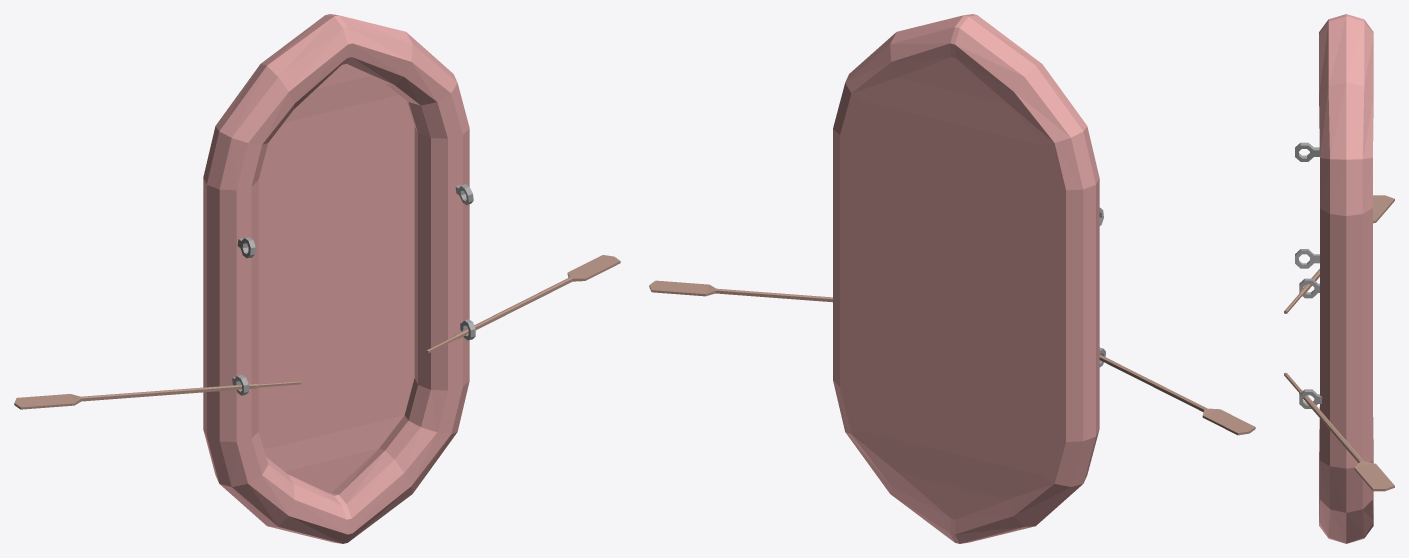
The model's file is Boat.fbx.
3 renders of one model, left to right at view 1: azimuth 30°, elevation 25°; view 2: azimuth 150°, elevation 25°; view 3: azimuth 270°, elevation 25°, orthographic.
Parts seen in each view (by area): view 1: Boat, Board_Oar_02, Board_Oar_01, Boat_circle; view 2: Boat, Board_Oar_02, Board_Oar_01; view 3: Boat, Board_Oar_01, Boat_circle, Board_Oar_02.
Part boxes in pixels (<box>): Boat: <box>203,14,469,543</box>; Board_Oar_02: <box>14,381,301,409</box>; Board_Oar_01: <box>426,255,620,353</box>; Boat_circle: <box>232,184,475,395</box>; Boat: <box>833,14,1099,543</box>; Board_Oar_02: <box>1099,354,1255,435</box>; Board_Oar_01: <box>649,280,832,302</box>; Boat: <box>1319,14,1373,543</box>; Board_Oar_01: <box>1284,372,1394,491</box>; Boat_circle: <box>1295,142,1322,408</box>; Board_Oar_02: <box>1284,195,1394,313</box>.
Bounding box in the file's own units: 249 × 209 × 39.75.
